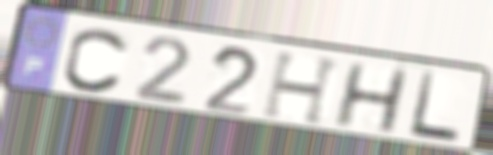2: (199, 44, 265, 116), (129, 35, 194, 106)
C: (60, 25, 133, 95)
H: (259, 50, 346, 129), (330, 61, 411, 137)
L: (406, 69, 463, 146)
